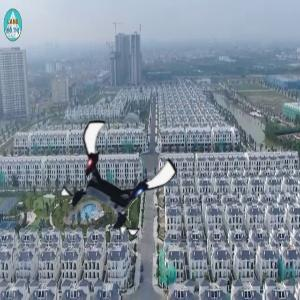drone: (63, 126, 168, 231)
